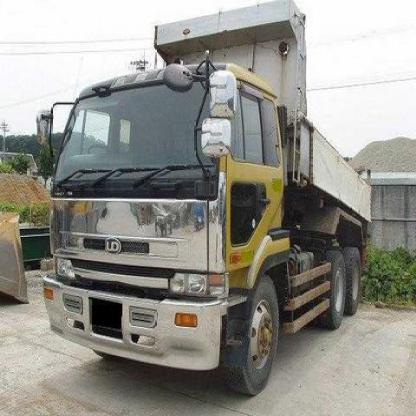dump_truck: (36, 0, 376, 398)
